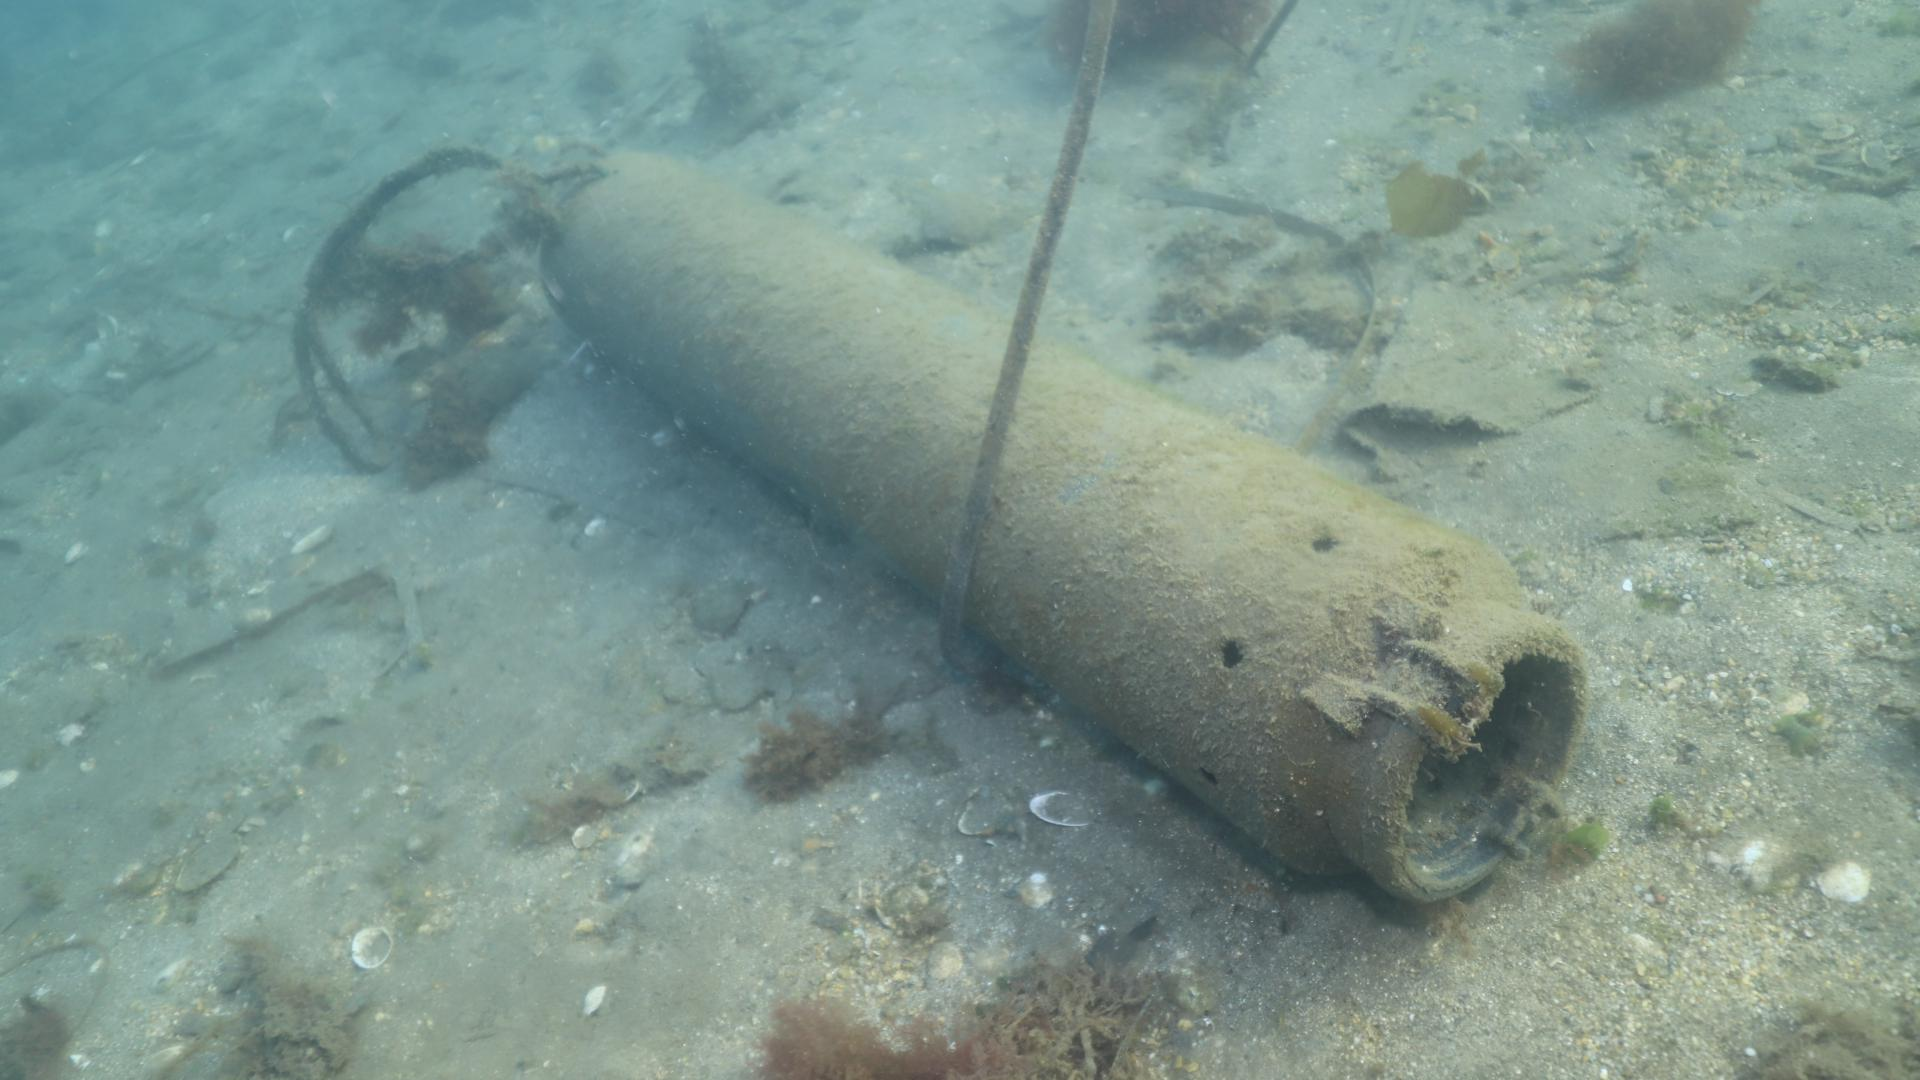bundle of ropes: (286, 131, 612, 475)
eel fish trap: (527, 142, 1600, 913)
